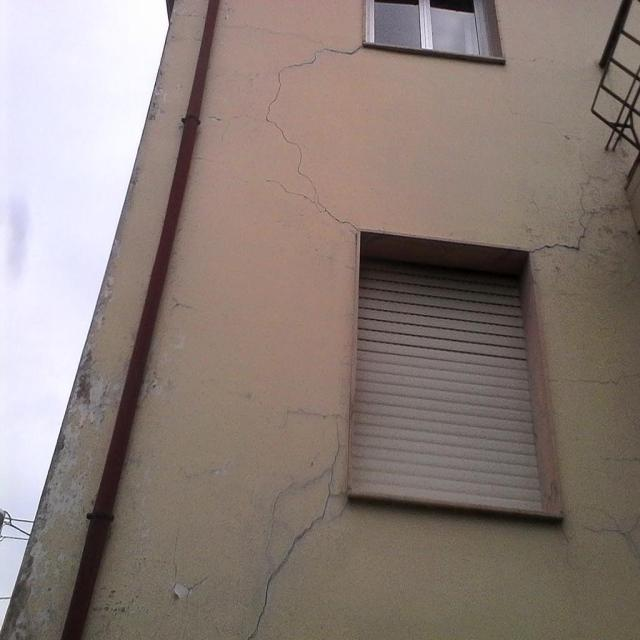crack: (246, 407, 343, 639), (263, 42, 361, 232), (529, 171, 609, 253), (580, 517, 639, 557), (552, 368, 639, 386), (594, 452, 638, 462)
